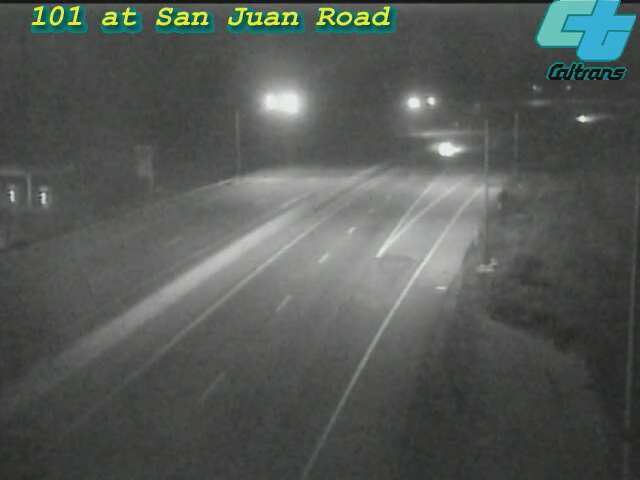vehicle: (560, 94, 610, 144), (420, 126, 470, 176)
